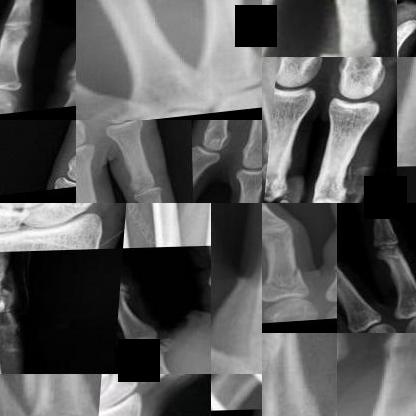fracture: (262, 333, 315, 415), (315, 26, 385, 56), (211, 374, 261, 412), (397, 57, 415, 158), (262, 268, 311, 302), (265, 174, 296, 202)
